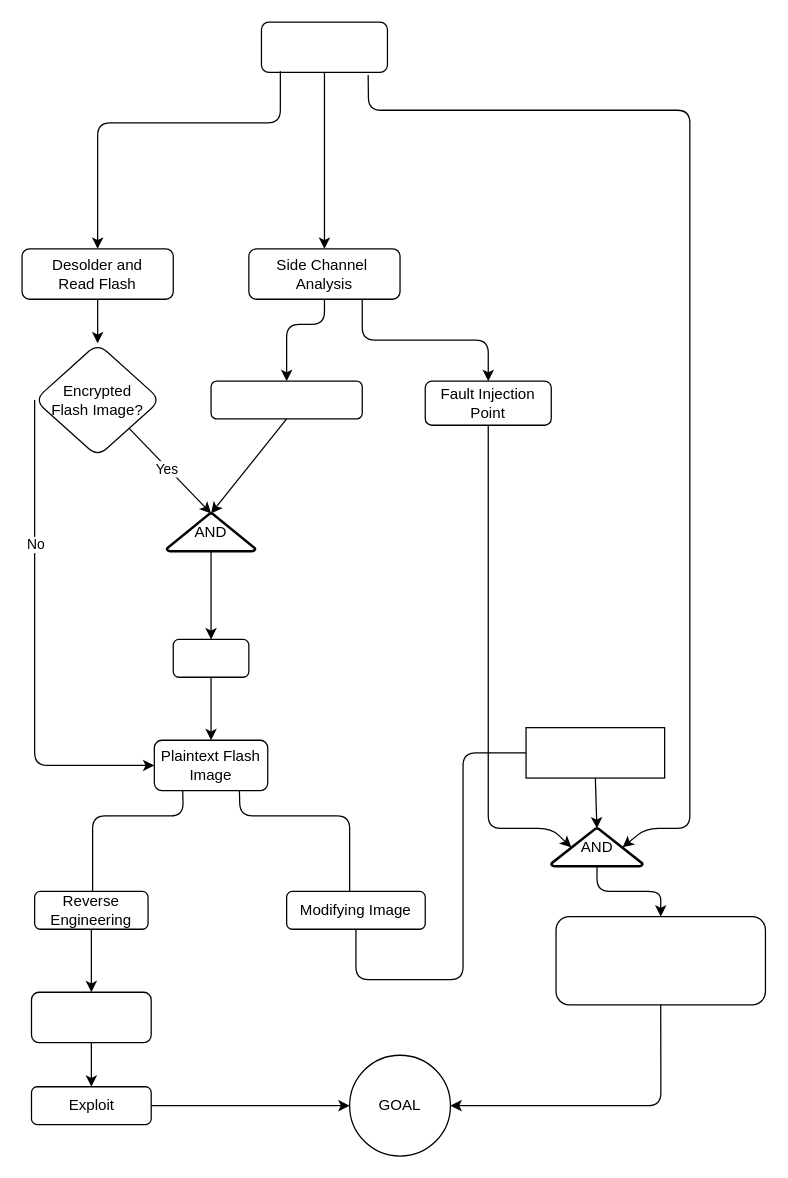
Some shapes in this 788 by 1178 pixel diagram are drawn without their labels. Here are the shapes that lost their labels. From the top down, the centre of each, then its label:
At point 323,46: "Physical Access".
At point 286,399: "Flash Encryption Key".
At point 210,657: "Decrypt".
At point 595,752: "Malicious Flash Image".
At point 660,960: "Firmware Authentication Bypass Using Fault injection".
At point 90,1017: "Vulnerability".
